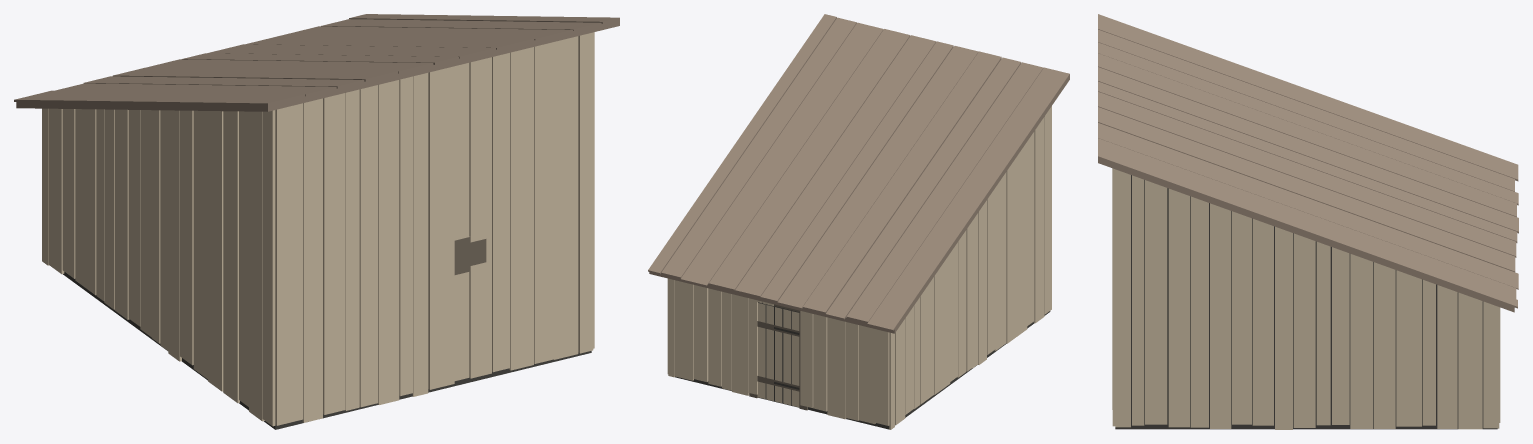
The model's file is recon_1835_blk_randolph_market_d2_06__inferred_1835.glb.
The picture shows the model from 3 angles, left to right: view 1: azimuth 30°, elevation 25°; view 2: azimuth 150°, elevation 25°; view 3: azimuth 270°, elevation 25°; orthographic projection. The views are drawn at different scales.
Visible parts, largest first — view 1: recon_1835_blk_randolph_market_d2_06__inferred_1835; view 2: recon_1835_blk_randolph_market_d2_06__inferred_1835; view 3: recon_1835_blk_randolph_market_d2_06__inferred_1835.
Part boxes in pixels (left/top/right/bottom): recon_1835_blk_randolph_market_d2_06__inferred_1835: left=14, top=14, right=619, bottom=429; recon_1835_blk_randolph_market_d2_06__inferred_1835: left=648, top=14, right=1069, bottom=429; recon_1835_blk_randolph_market_d2_06__inferred_1835: left=1098, top=14, right=1518, bottom=429.
Bounding box in the file's own units: 5.01 × 4.61 × 6.26.
